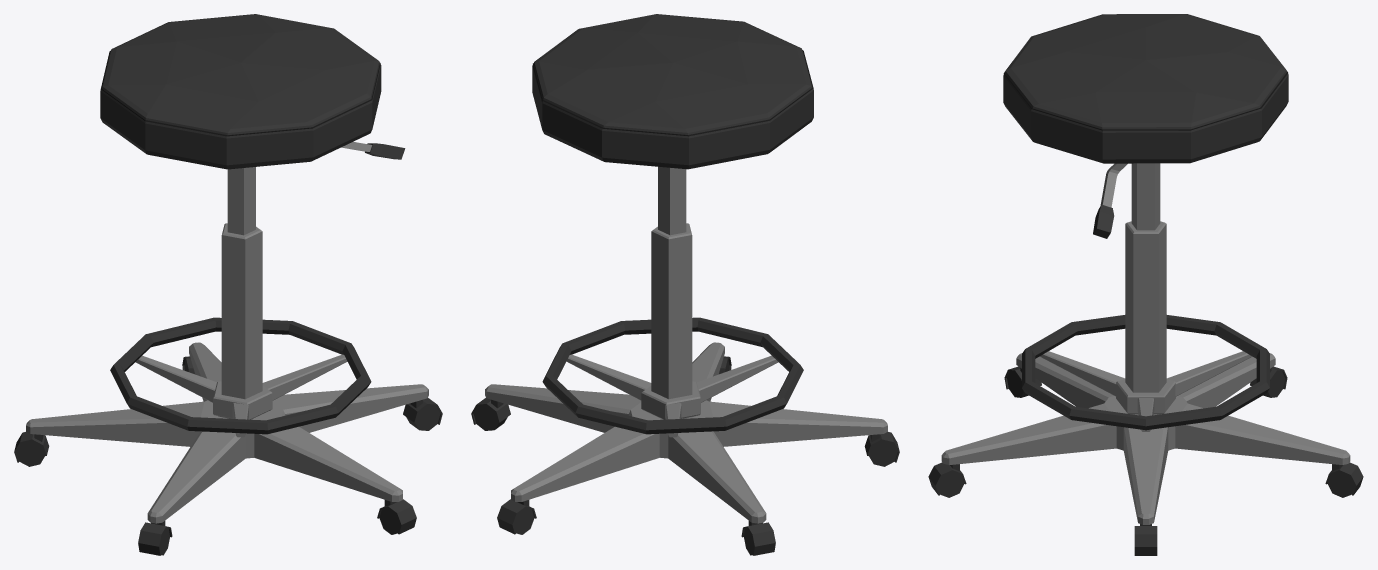
Rendered from Int_Chair04_2.fbx.
3 views of the same model, side by side, from view 1: azimuth 30°, elevation 25°; view 2: azimuth 150°, elevation 25°; view 3: azimuth 270°, elevation 25° (orthographic).
Visible parts, largest first — view 1: Int_Chair04_2; view 2: Int_Chair04_2; view 3: Int_Chair04_2.
Boxes of the visible parts, x1,y1,x2,y2 form: Int_Chair04_2: [14, 14, 442, 555]; Int_Chair04_2: [471, 14, 899, 555]; Int_Chair04_2: [928, 14, 1363, 555].
Size of what is drawn, in the model's own units: 55.4 by 58.25 by 60.05.
